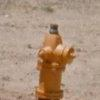Hydrant: (25, 17, 79, 98)
